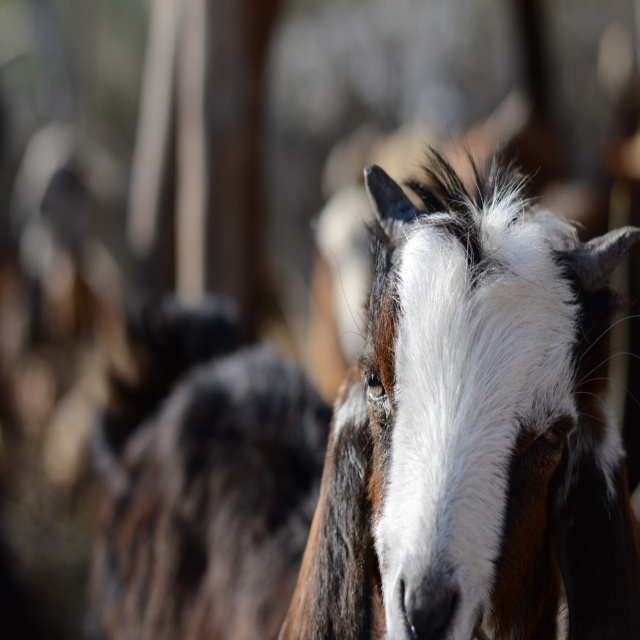Goat: (282, 156, 640, 639)
